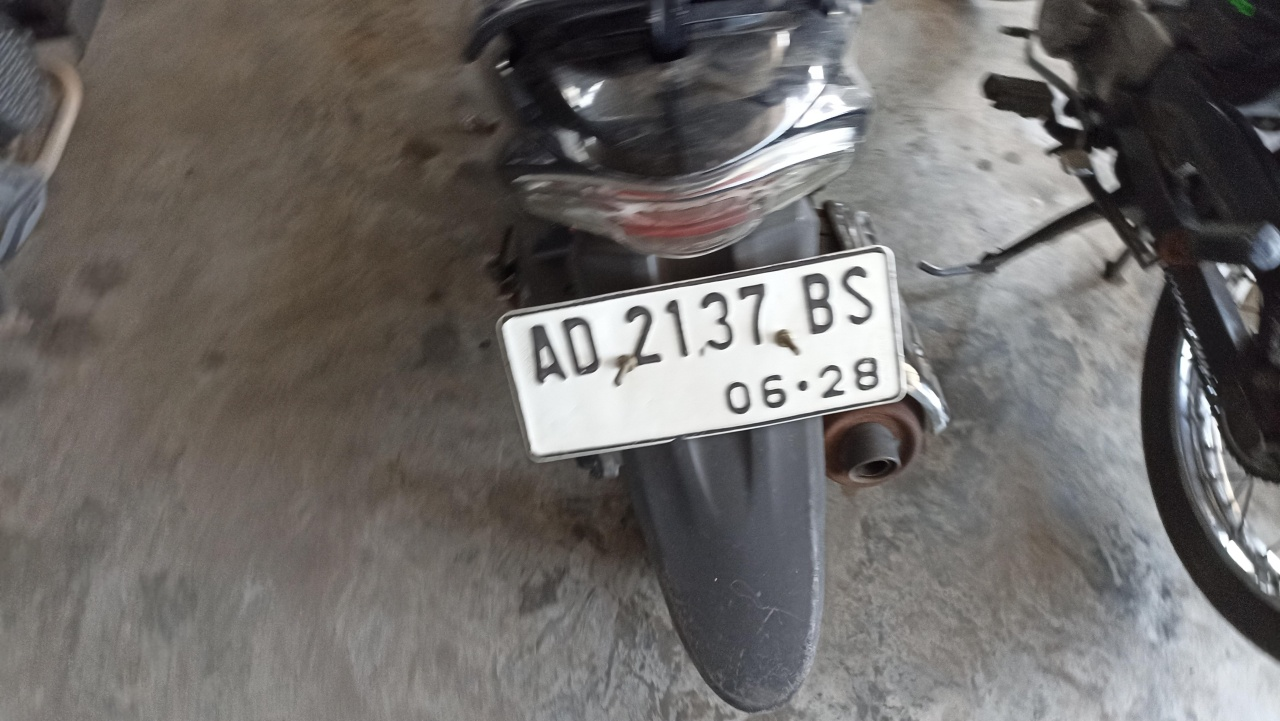plate: (500, 249, 901, 463)
